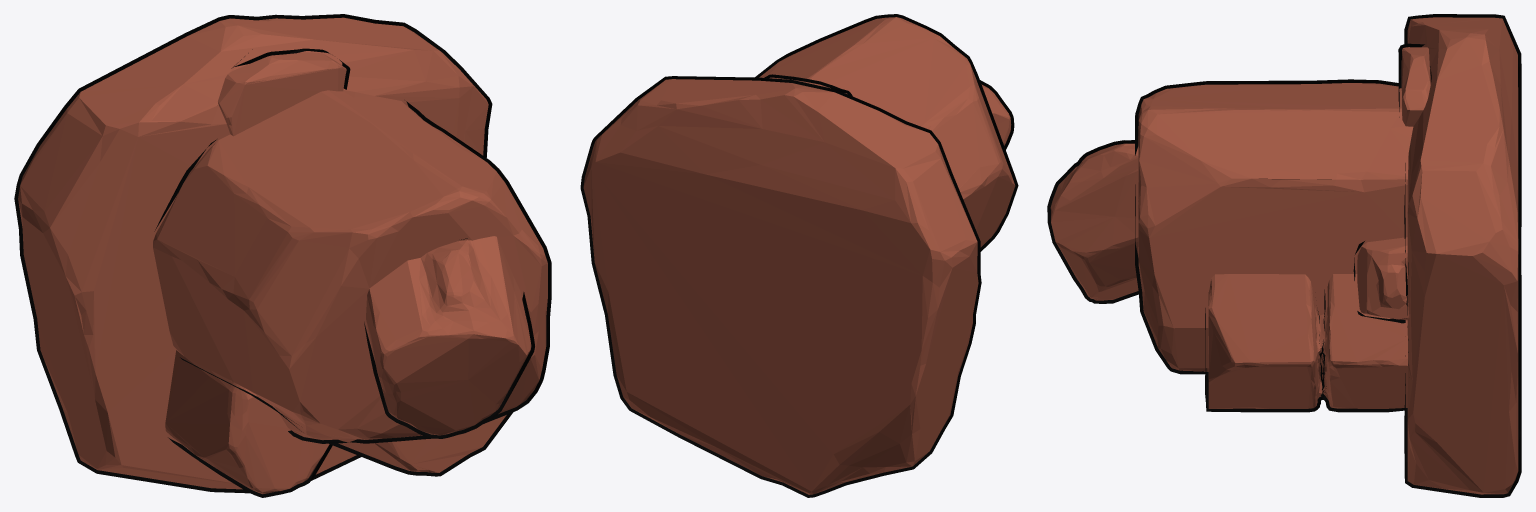
File: rock_formation.glb
3 renders of one model, left to right at view 1: azimuth 30°, elevation 25°; view 2: azimuth 150°, elevation 25°; view 3: azimuth 270°, elevation 25°, orthographic. The views are drawn at different scales.
Parts seen in each view (by area): view 1: rock_formation; view 2: rock_formation; view 3: rock_formation.
Boxes of the visible parts, bbox=[...] form: rock_formation: bbox=[14, 14, 551, 497]; rock_formation: bbox=[580, 14, 1018, 497]; rock_formation: bbox=[1047, 14, 1521, 497].
Bounding box in the file's own units: 12.17 × 12.18 × 12.18.
